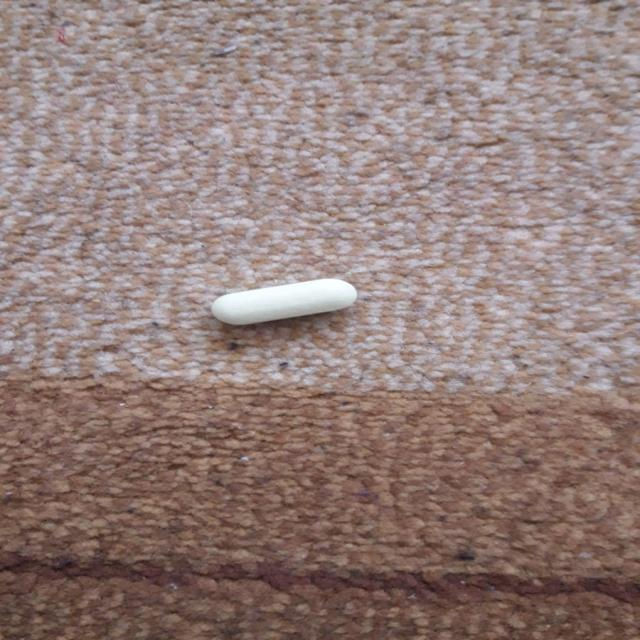pills: (186, 268, 370, 334)
